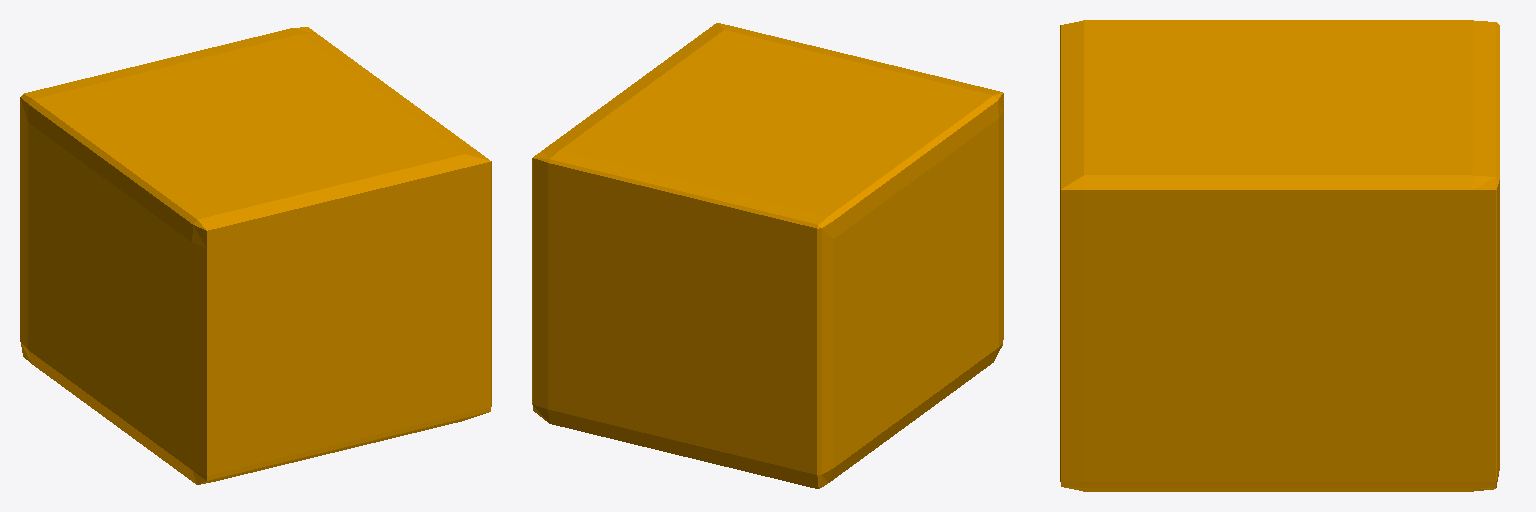
URDF robot description (cylinder_box_43):
<?xml version="1.0" encoding="utf-8"?>  <robot name="cylinder_box_43">   <link name="cylinder_box_43">     <visual>       <geometry>         <mesh filename="../meshes/box/box_43.stl" scale="1 1 1"/>       </geometry>     </visual>     <collision>       <geometry>         <mesh filename="../meshes/box/box_43.stl" scale="1 1 1"/>       </geometry>     </collision>     <inertial>        <origin         xyz="0 0 0"         rpy="0 0 0" />       <mass value="0.6271238332896251"/>       <origin rpy="0 0 0" xyz="0 0 0"/>       <inertia ixx="0.0007762733355658229" ixy="4.523908740272803e-07" ixz="-3.7175993748125233e-07" iyy="0.0006890591472574607" iyz="5.752500948142263e-07" izz="0.0008659597323442379"/>     </inertial>   </link>  </robot>

--- What the picture shows (computed from the rendered views, not written in the file) ---
3 views of the same robot in one strip: view 1: azimuth 30°, elevation 25°; view 2: azimuth 150°, elevation 25°; view 3: azimuth 270°, elevation 25° (orthographic).
Robot: cylinder_box_43 — 1 links, 0 joints (none); root link cylinder_box_43; default pose: every joint at zero.
Links seen in each view (by area): view 1: cylinder_box_43; view 2: cylinder_box_43; view 3: cylinder_box_43.
Boxes of the visible links, box(x1,y1,x2,y2) form: cylinder_box_43: box(20, 27, 491, 484); cylinder_box_43: box(532, 23, 1003, 488); cylinder_box_43: box(1060, 20, 1499, 491).
Bounding box of the posed robot: 0.0866 × 0.0958 × 0.0761 m (x, y, z).
1 mesh visuals loaded from 1 distinct referenced files (1 binary STL).